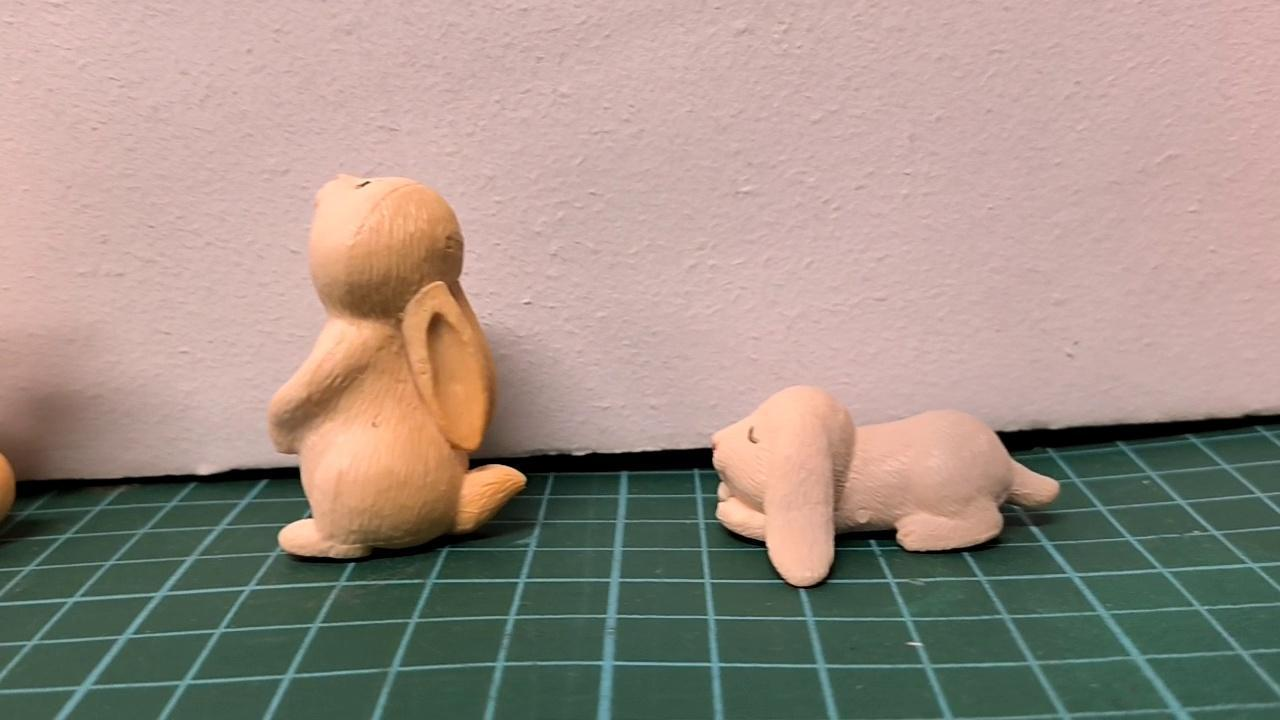pet: (266, 172, 526, 562), (713, 383, 1060, 585)
